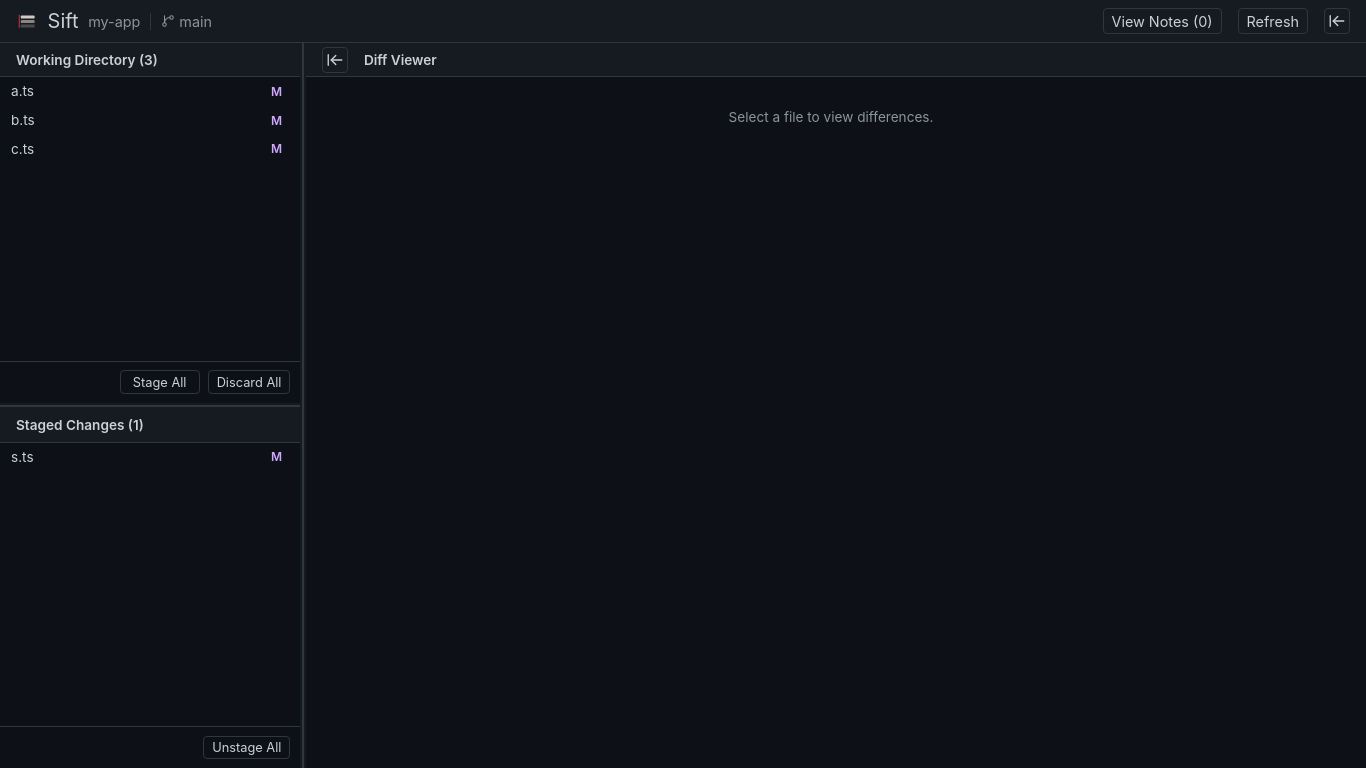
Test: RepositoryViewerPage interactions › opens and closes the repository sidebar from the header toggle
Click the button named "Open repository sidebar" at (1337, 21), box [1324,8,1350,34]
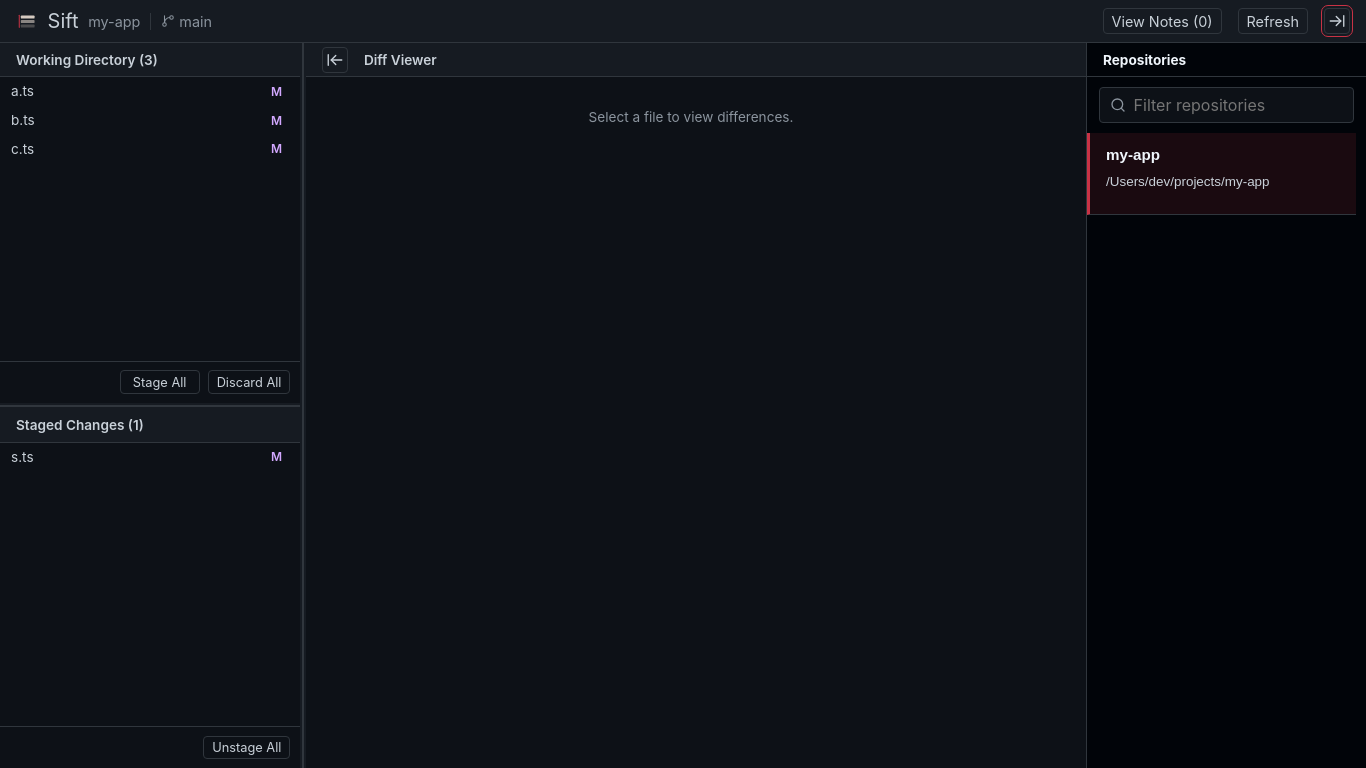
Expected: the element named "Repository list" is shown, [1086,43,1365,767]
Expected: the button named "Close repository sidebar" is shown
Click the button named "Close repository sidebar" at (1337, 21), box [1324,8,1350,34]
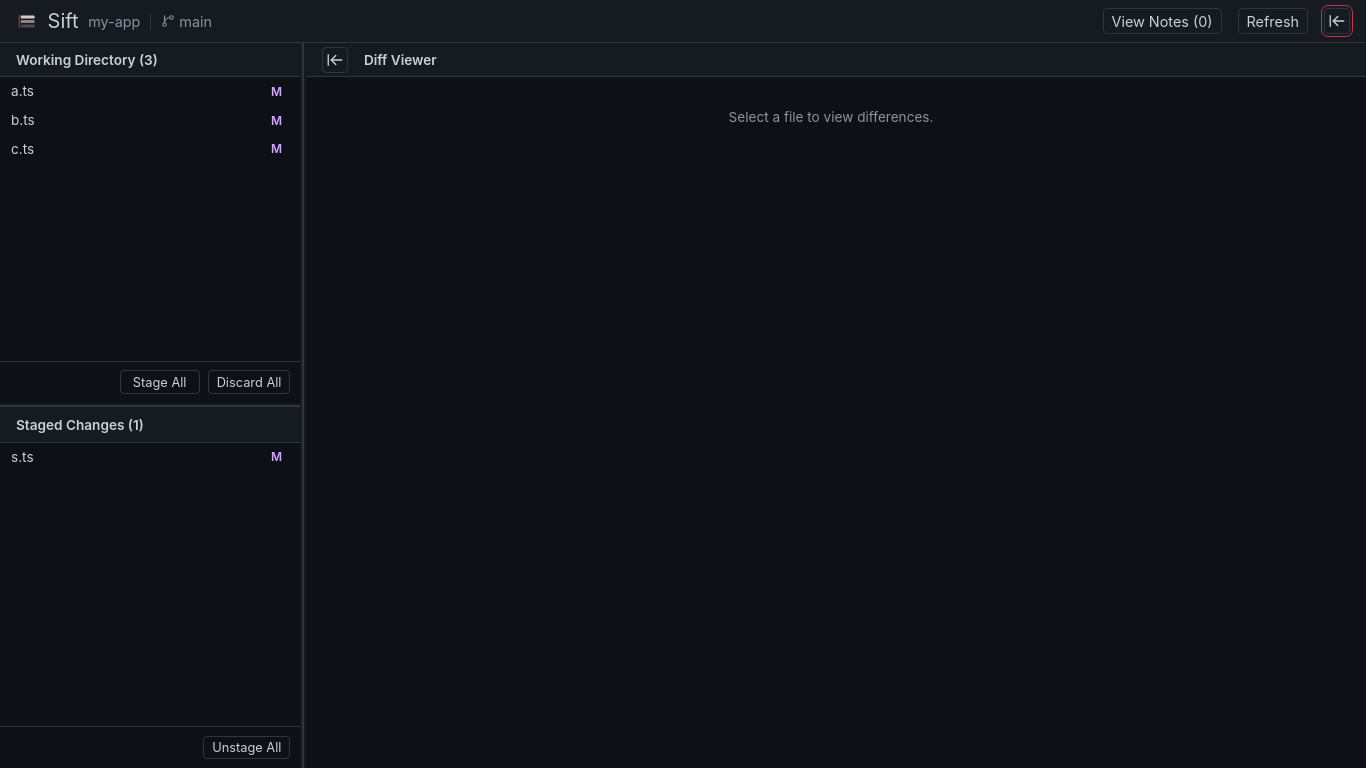
Expected: the button named "Open repository sidebar" is shown, [1324,8,1350,34]
